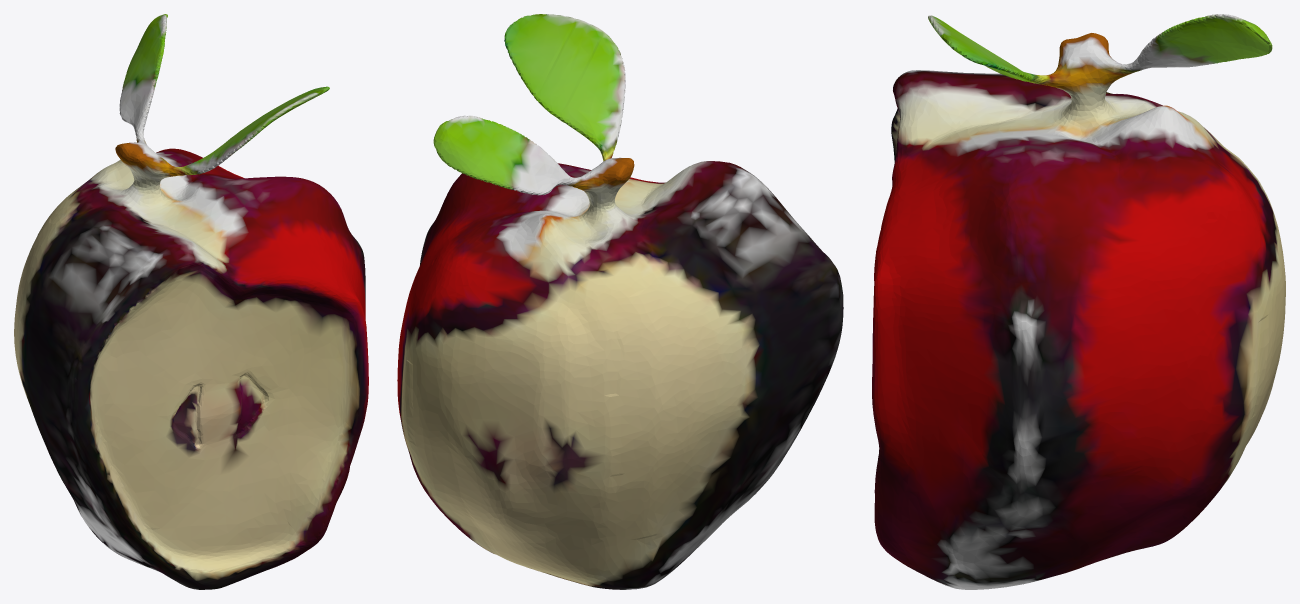
Rendered from apple_half.glb.
3 views of the same model, side by side, from view 1: azimuth 30°, elevation 25°; view 2: azimuth 150°, elevation 25°; view 3: azimuth 270°, elevation 25° (orthographic). The views are drawn at different scales.
Visible parts, largest first — view 1: geometry_0; view 2: geometry_0; view 3: geometry_0.
Part boxes in pixels (x1,y1,x2,y2): geometry_0: (14,14,368,589); geometry_0: (397,14,843,589); geometry_0: (872,14,1285,589).
Size of the model in its own units: 0.4688 by 0.6053 by 0.3958.
